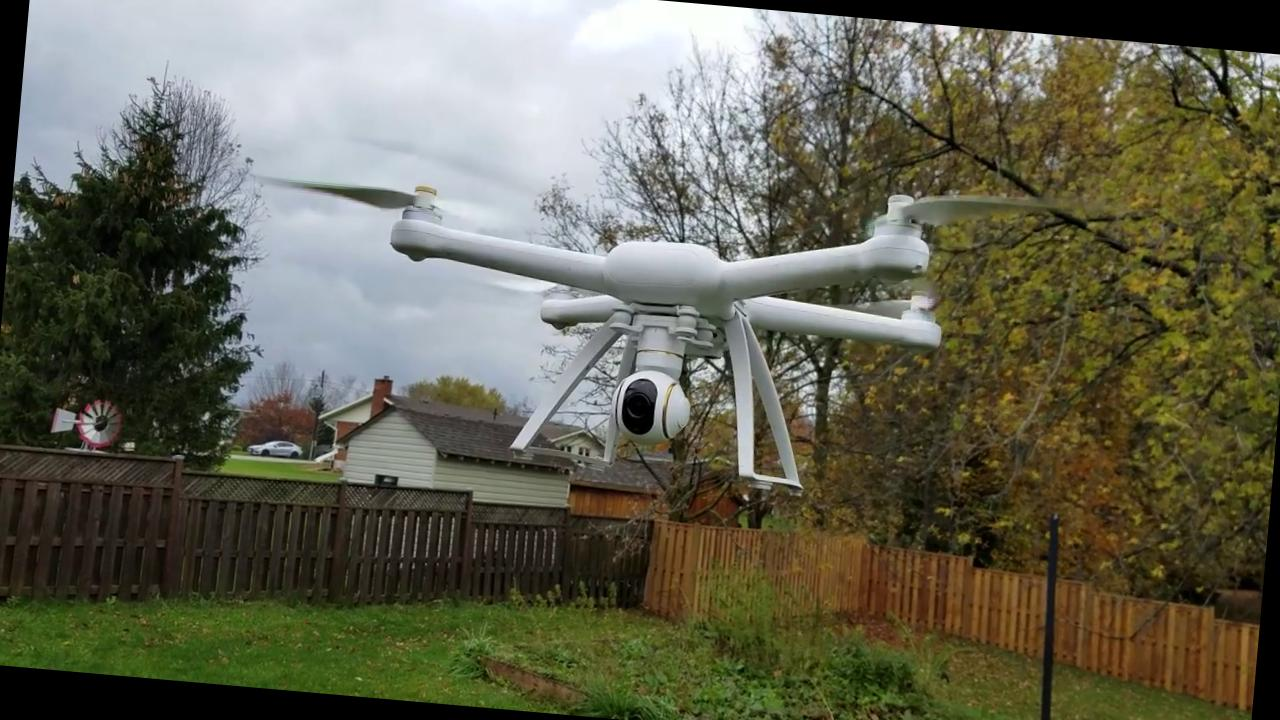drone: (236, 98, 1084, 441)
